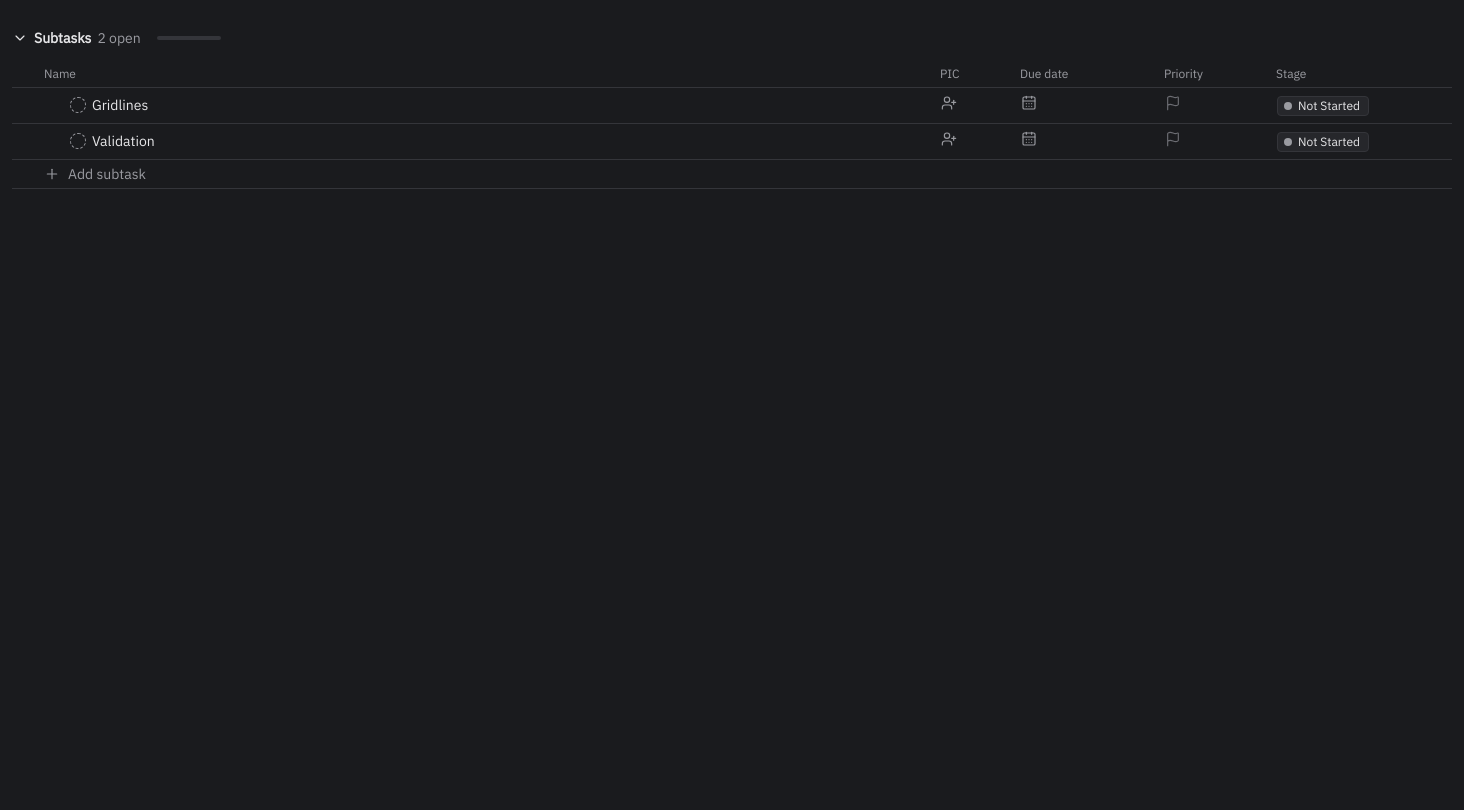
Scenario: SubtaskList › rolls the tick back and says why when saving fails
This screenshot has width=1464, height=810.
Step 1. Click the checkbox named "Mark Gridlines as done" → coordinates (78, 106), box [70,98,86,114]
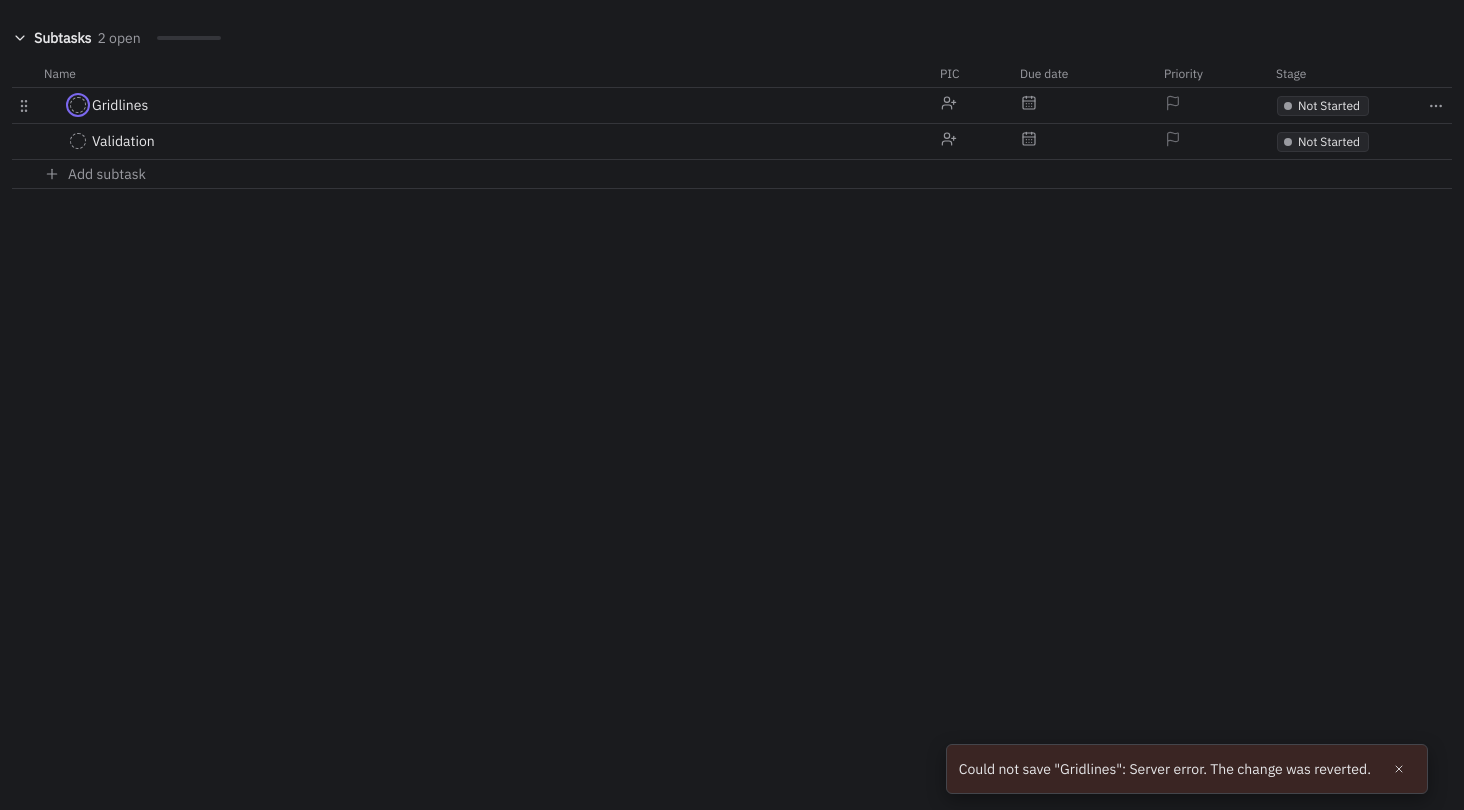
Now the text "Could not save \"Gridlines\": Server error" is shown, box [959,760,1371,778]
